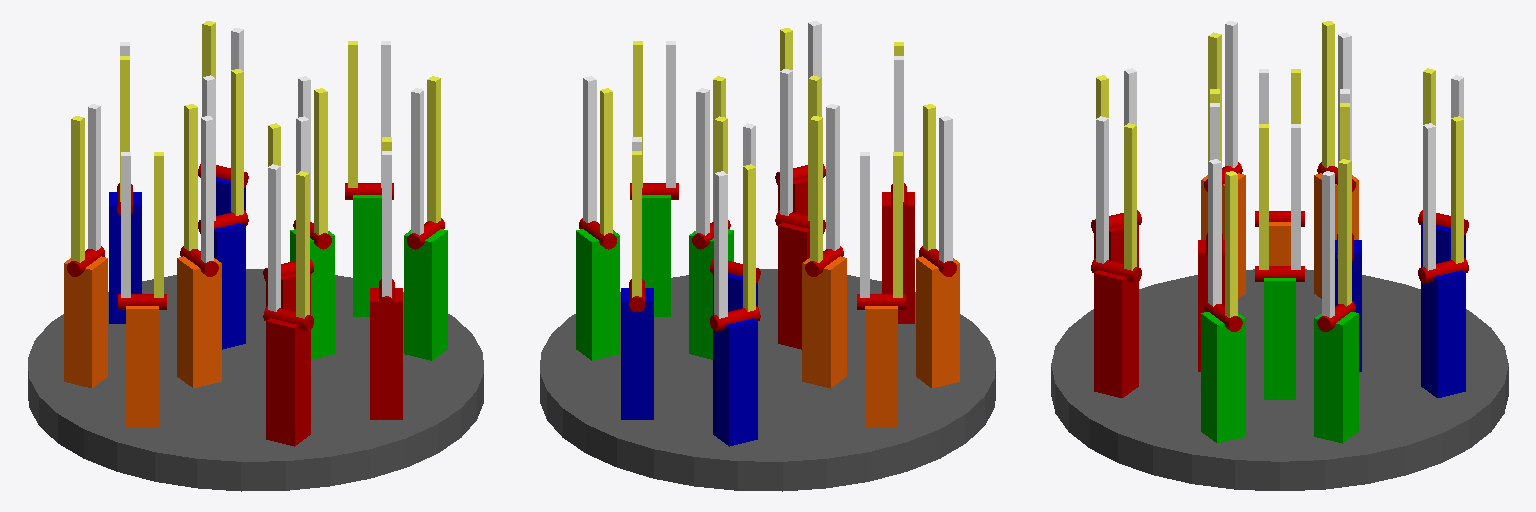
--- Render facts (derived) ---
The picture shows the robot from 3 angles, left to right: view 1: azimuth 30°, elevation 25°; view 2: azimuth 150°, elevation 25°; view 3: azimuth 270°, elevation 25°; orthographic projection.
Robot: 12act_float — 50 links, 49 joints (36 revolute, 12 prismatic, 1 fixed); root link world; default pose: all joints at 0.
Links seen in each view (by area): view 1: base_link, motor_link_5, motor_link_6, motor_link_2, motor_link_8, motor_link_7, motor_link_4, motor_link_9, motor_link_1, motor_link_0, motor_link_10, parallel_5_leg1 (+25 smaller); view 2: base_link, motor_link_10, motor_link_6, motor_link_1, motor_link_7, motor_link_8, motor_link_11, motor_link_3, motor_link_2, motor_link_0, motor_link_5, parallel_10_leg2 (+25 smaller); view 3: base_link, motor_link_4, motor_link_11, motor_link_1, motor_link_2, motor_link_0, parallel_1_leg1, parallel_2_leg2, parallel_4_leg1, parallel_11_leg2, parallel_4_leg2, parallel_11_leg1 (+26 smaller).
Boxes of the visible links, left/top/right/bottom form: base_link: left=28, top=269, right=483, bottom=491; motor_link_5: left=266, top=318, right=310, bottom=446; motor_link_6: left=177, top=256, right=221, bottom=388; motor_link_2: left=404, top=229, right=447, bottom=360; motor_link_8: left=64, top=256, right=107, bottom=387; motor_link_7: left=126, top=306, right=158, bottom=427; motor_link_4: left=370, top=288, right=402, bottom=419; motor_link_9: left=214, top=222, right=245, bottom=349; motor_link_1: left=353, top=195, right=381, bottom=316; motor_link_0: left=290, top=229, right=334, bottom=359; motor_link_10: left=109, top=192, right=141, bottom=323; parallel_5_leg1: left=296, top=171, right=309, bottom=318; base_link: left=540, top=269, right=995, bottom=491; motor_link_10: left=713, top=318, right=757, bottom=446; motor_link_6: left=802, top=256, right=846, bottom=388; motor_link_1: left=576, top=229, right=619, bottom=360; motor_link_7: left=916, top=256, right=959, bottom=387; motor_link_8: left=865, top=306, right=897, bottom=427; motor_link_11: left=621, top=288, right=653, bottom=419; motor_link_3: left=778, top=222, right=809, bottom=349; motor_link_2: left=642, top=195, right=670, bottom=316; motor_link_0: left=689, top=229, right=733, bottom=359; motor_link_5: left=882, top=192, right=914, bottom=323; parallel_10_leg2: left=714, top=171, right=727, bottom=318; base_link: left=1051, top=269, right=1508, bottom=490; motor_link_4: left=1094, top=270, right=1138, bottom=397; motor_link_11: left=1421, top=270, right=1465, bottom=397; motor_link_1: left=1314, top=312, right=1358, bottom=443; motor_link_2: left=1201, top=312, right=1245, bottom=443; motor_link_0: left=1264, top=278, right=1295, bottom=399; parallel_1_leg1: left=1338, top=159, right=1351, bottom=306; parallel_2_leg2: left=1208, top=159, right=1221, bottom=306; parallel_4_leg1: left=1124, top=123, right=1136, bottom=270; parallel_11_leg2: left=1423, top=123, right=1435, bottom=270; parallel_4_leg2: left=1096, top=116, right=1108, bottom=263; parallel_11_leg1: left=1451, top=116, right=1463, bottom=263.
Bounding box of the posed robot: 0.14 × 0.14 × 0.1 m (x, y, z).
Geometry: primitives only (box / cylinder / sphere), no mesh files.

URDF robot description (12act_float):
<?xml version="1.0"?>
<robot  name="12act_float" >
 <material  name="Black" >
  <color  rgba="0 0 0 1" />
 </material>
 <material  name="Blue" >
  <color  rgba="0.0 0.0 0.8 1.0" />
 </material>
 <material  name="Green" >
  <color  rgba="0.0 0.8 0.0 1.0" />
 </material>
 <material  name="Grey" >
  <color  rgba="0.4 0.4 0.4 1.0" />
 </material>
 <material  name="Orange" >
  <color  rgba="1.0 0.4235294117647059 0.0392156862745098 1.0" />
 </material>
 <material  name="Brown" >
  <color  rgba="0.8705882352941177 0.8117647058823529 0.7647058823529411 1.0" />
 </material>
 <material  name="Red" >
  <color  rgba="0.8 0.0 0.0 1.0" />
 </material>
 <material  name="BananaYellow" >
  <color  rgba="0.9803921568627451 0.996078431372549 0.29411764705882354 1.0" />
 </material>
 <material  name="BrightBlue" >
  <color  rgba="0.00392156862745098 0.396078431372549 0.9882352941176471 1.0" />
 </material>
 <material  name="White" >
  <color  rgba="1.0 1.0 1.0 1.0" />
 </material>
 <link  name="world" />
 <joint  type="fixed"  name="base_joint" >
  <parent  link="world" />
  <child  link="base_link" />
  <origin  xyz="0 0 0"  rpy="0 0 0" />
 </joint>
 <link  name="base_link" >
  <inertial >
   <mass  value="0.25" />
   <inertia  iyy="0.001"  izz="0.001"  ixx="0.001"  ixz="0.0"  ixy="0.0"  iyz="0.0" />
  </inertial>
  <visual >
   <origin  xyz="0 0 0.005"  rpy="0 0 0" />
   <geometry >
    <cylinder  length="0.01"  radius="0.07" />
   </geometry>
   <material  name="Grey" />
  </visual>
  <collision >
   <origin  xyz="0 0 0.005"  rpy="0 0 0" />
   <geometry >
    <cylinder  length="0.01"  radius="0.07" />
   </geometry>
   <material  name="Grey" />
  </collision>
 </link>
 <joint  type="prismatic"  name="motor_joint_0" >
  <axis  xyz="0 0 1" />
  <limit  upper="0.02"  velocity="1"  lower="0"  effort="100" />
  <parent  link="base_link" />
  <child  link="motor_link_0" />
  <origin  xyz="0.02 0 0.01"  rpy="0 0 1.5707963267948966" />
 </joint>
 <link  name="motor_link_0" >
  <inertial >
   <mass  value="0.021" />
   <inertia  iyy="0.001"  izz="0.001"  ixx="0.001"  ixz="0.0"  ixy="0.0"  iyz="0.0" />
  </inertial>
  <visual >
   <origin  xyz="0 0 0.02"  rpy="0 0 0" />
   <geometry >
    <box  size="0.01 0.01 0.04" />
   </geometry>
   <material  name="Green" />
  </visual>
  <collision >
   <origin  xyz="0 0 0.02"  rpy="0 0 0" />
   <geometry >
    <box  size="0.01 0.01 0.04" />
   </geometry>
   <material  name="Green" />
  </collision>
 </link>
 <joint  type="prismatic"  name="motor_joint_1" >
  <axis  xyz="0 0 1" />
  <limit  upper="0.02"  velocity="1"  lower="0"  effort="100" />
  <parent  link="base_link" />
  <child  link="motor_link_1" />
  <origin  xyz="0.05 0.017320508075688773 0.01"  rpy="0 0 -0.5235987755982988" />
 </joint>
 <link  name="motor_link_1" >
  <inertial >
   <mass  value="0.021" />
   <inertia  iyy="0.001"  izz="0.001"  ixx="0.001"  ixz="0.0"  ixy="0.0"  iyz="0.0" />
  </inertial>
  <visual >
   <origin  xyz="0 0 0.02"  rpy="0 0 0" />
   <geometry >
    <box  size="0.01 0.01 0.04" />
   </geometry>
   <material  name="Green" />
  </visual>
  <collision >
   <origin  xyz="0 0 0.02"  rpy="0 0 0" />
   <geometry >
    <box  size="0.01 0.01 0.04" />
   </geometry>
   <material  name="Green" />
  </collision>
 </link>
 <joint  type="prismatic"  name="motor_joint_2" >
  <axis  xyz="0 0 1" />
  <limit  upper="0.02"  velocity="1"  lower="0"  effort="100" />
  <parent  link="base_link" />
  <child  link="motor_link_2" />
  <origin  xyz="0.05 -0.017320508075688773 0.01"  rpy="0 0 -2.6179938779914944" />
 </joint>
 <link  name="motor_link_2" >
  <inertial >
   <mass  value="0.021" />
   <inertia  iyy="0.001"  izz="0.001"  ixx="0.001"  ixz="0.0"  ixy="0.0"  iyz="0.0" />
  </inertial>
  <visual >
   <origin  xyz="0 0 0.02"  rpy="0 0 0" />
   <geometry >
    <box  size="0.01 0.01 0.04" />
   </geometry>
   <material  name="Green" />
  </visual>
  <collision >
   <origin  xyz="0 0 0.02"  rpy="0 0 0" />
   <geometry >
    <box  size="0.01 0.01 0.04" />
   </geometry>
   <material  name="Green" />
  </collision>
 </link>
 <joint  type="prismatic"  name="motor_joint_3" >
  <axis  xyz="0 0 1" />
  <limit  upper="0.02"  velocity="1"  lower="0"  effort="100" />
  <parent  link="base_link" />
  <child  link="motor_link_3" />
  <origin  xyz="0 -0.02 0.01"  rpy="0 0 0" />
 </joint>
 <link  name="motor_link_3" >
  <inertial >
   <mass  value="0.021" />
   <inertia  iyy="0.001"  izz="0.001"  ixx="0.001"  ixz="0.0"  ixy="0.0"  iyz="0.0" />
  </inertial>
  <visual >
   <origin  xyz="0 0 0.02"  rpy="0 0 0" />
   <geometry >
    <box  size="0.01 0.01 0.04" />
   </geometry>
   <material  name="Red" />
  </visual>
  <collision >
   <origin  xyz="0 0 0.02"  rpy="0 0 0" />
   <geometry >
    <box  size="0.01 0.01 0.04" />
   </geometry>
   <material  name="Red" />
  </collision>
 </link>
 <joint  type="prismatic"  name="motor_joint_4" >
  <axis  xyz="0 0 1" />
  <limit  upper="0.02"  velocity="1"  lower="0"  effort="100" />
  <parent  link="base_link" />
  <child  link="motor_link_4" />
  <origin  xyz="0.017320508075688773 -0.05 0.01"  rpy="0 0 -2.0943951023931953" />
 </joint>
 <link  name="motor_link_4" >
  <inertial >
   <mass  value="0.021" />
   <inertia  iyy="0.001"  izz="0.001"  ixx="0.001"  ixz="0.0"  ixy="0.0"  iyz="0.0" />
  </inertial>
  <visual >
   <origin  xyz="0 0 0.02"  rpy="0 0 0" />
   <geometry >
    <box  size="0.01 0.01 0.04" />
   </geometry>
   <material  name="Red" />
  </visual>
  <collision >
   <origin  xyz="0 0 0.02"  rpy="0 0 0" />
   <geometry >
    <box  size="0.01 0.01 0.04" />
   </geometry>
   <material  name="Red" />
  </collision>
 </link>
 <joint  type="prismatic"  name="motor_joint_5" >
  <axis  xyz="0 0 1" />
  <limit  upper="0.02"  velocity="1"  lower="0"  effort="100" />
  <parent  link="base_link" />
  <child  link="motor_link_5" />
  <origin  xyz="-0.017320508075688773 -0.05 0.01"  rpy="0 0 2.0943951023931953" />
 </joint>
 <link  name="motor_link_5" >
  <inertial >
   <mass  value="0.021" />
   <inertia  iyy="0.001"  izz="0.001"  ixx="0.001"  ixz="0.0"  ixy="0.0"  iyz="0.0" />
  </inertial>
  <visual >
   <origin  xyz="0 0 0.02"  rpy="0 0 0" />
   <geometry >
    <box  size="0.01 0.01 0.04" />
   </geometry>
   <material  name="Red" />
  </visual>
  <collision >
   <origin  xyz="0 0 0.02"  rpy="0 0 0" />
   <geometry >
    <box  size="0.01 0.01 0.04" />
   </geometry>
   <material  name="Red" />
  </collision>
 </link>
 <joint  type="prismatic"  name="motor_joint_6" >
  <axis  xyz="0 0 1" />
  <limit  upper="0.02"  velocity="1"  lower="0"  effort="100" />
  <parent  link="base_link" />
  <child  link="motor_link_6" />
  <origin  xyz="-0.02 0 0.01"  rpy="0 0 -1.5707963267948966" />
 </joint>
 <link  name="motor_link_6" >
  <inertial >
   <mass  value="0.021" />
   <inertia  iyy="0.001"  izz="0.001"  ixx="0.001"  ixz="0.0"  ixy="0.0"  iyz="0.0" />
  </inertial>
  <visual >
   <origin  xyz="0 0 0.02"  rpy="0 0 0" />
   <geometry >
    <box  size="0.01 0.01 0.04" />
   </geometry>
   <material  name="Orange" />
  </visual>
  <collision >
   <origin  xyz="0 0 0.02"  rpy="0 0 0" />
   <geometry >
    <box  size="0.01 0.01 0.04" />
   </geometry>
   <material  name="Orange" />
  </collision>
 </link>
 <joint  type="prismatic"  name="motor_joint_7" >
  <axis  xyz="0 0 1" />
  <limit  upper="0.02"  velocity="1"  lower="0"  effort="100" />
  <parent  link="base_link" />
  <child  link="motor_link_7" />
  <origin  xyz="-0.05 -0.017320508075688773 0.01"  rpy="0 0 2.6179938779914944" />
 </joint>
 <link  name="motor_link_7" >
  <inertial >
   <mass  value="0.021" />
   <inertia  iyy="0.001"  izz="0.001"  ixx="0.001"  ixz="0.0"  ixy="0.0"  iyz="0.0" />
  </inertial>
  <visual >
   <origin  xyz="0 0 0.02"  rpy="0 0 0" />
   <geometry >
    <box  size="0.01 0.01 0.04" />
   </geometry>
   <material  name="Orange" />
  </visual>
  <collision >
   <origin  xyz="0 0 0.02"  rpy="0 0 0" />
   <geometry >
    <box  size="0.01 0.01 0.04" />
   </geometry>
   <material  name="Orange" />
  </collision>
 </link>
 <joint  type="prismatic"  name="motor_joint_8" >
  <axis  xyz="0 0 1" />
  <limit  upper="0.02"  velocity="1"  lower="0"  effort="100" />
  <parent  link="base_link" />
  <child  link="motor_link_8" />
  <origin  xyz="-0.05 0.017320508075688773 0.01"  rpy="0 0 0.5235987755982988" />
 </joint>
 <link  name="motor_link_8" >
  <inertial >
   <mass  value="0.021" />
   <inertia  iyy="0.001"  izz="0.001"  ixx="0.001"  ixz="0.0"  ixy="0.0"  iyz="0.0" />
  </inertial>
  <visual >
   <origin  xyz="0 0 0.02"  rpy="0 0 0" />
   <geometry >
    <box  size="0.01 0.01 0.04" />
   </geometry>
   <material  name="Orange" />
  </visual>
  <collision >
   <origin  xyz="0 0 0.02"  rpy="0 0 0" />
   <geometry >
    <box  size="0.01 0.01 0.04" />
   </geometry>
   <material  name="Orange" />
  </collision>
 </link>
 <joint  type="prismatic"  name="motor_joint_9" >
  <axis  xyz="0 0 1" />
  <limit  upper="0.02"  velocity="1"  lower="0"  effort="100" />
  <parent  link="base_link" />
  <child  link="motor_link_9" />
  <origin  xyz="0 0.02 0.01"  rpy="0 0 3.141592653589793" />
 </joint>
 <link  name="motor_link_9" >
  <inertial >
   <mass  value="0.021" />
   <inertia  iyy="0.001"  izz="0.001"  ixx="0.001"  ixz="0.0"  ixy="0.0"  iyz="0.0" />
  </inertial>
  <visual >
   <origin  xyz="0 0 0.02"  rpy="0 0 0" />
   <geometry >
    <box  size="0.01 0.01 0.04" />
   </geometry>
   <material  name="Blue" />
  </visual>
  <collision >
   <origin  xyz="0 0 0.02"  rpy="0 0 0" />
   <geometry >
    <box  size="0.01 0.01 0.04" />
   </geometry>
   <material  name="Blue" />
  </collision>
 </link>
 <joint  type="prismatic"  name="motor_joint_10" >
  <axis  xyz="0 0 1" />
  <limit  upper="0.02"  velocity="1"  lower="0"  effort="100" />
  <parent  link="base_link" />
  <child  link="motor_link_10" />
  <origin  xyz="-0.017320508075688773 0.05 0.01"  rpy="0 0 1.0471975511965976" />
 </joint>
 <link  name="motor_link_10" >
  <inertial >
   <mass  value="0.021" />
   <inertia  iyy="0.001"  izz="0.001"  ixx="0.001"  ixz="0.0"  ixy="0.0"  iyz="0.0" />
  </inertial>
  <visual >
   <origin  xyz="0 0 0.02"  rpy="0 0 0" />
   <geometry >
    <box  size="0.01 0.01 0.04" />
   </geometry>
   <material  name="Blue" />
  </visual>
  <collision >
   <origin  xyz="0 0 0.02"  rpy="0 0 0" />
   <geometry >
    <box  size="0.01 0.01 0.04" />
   </geometry>
   <material  name="Blue" />
  </collision>
 </link>
 <joint  type="prismatic"  name="motor_joint_11" >
  <axis  xyz="0 0 1" />
  <limit  upper="0.02"  velocity="1"  lower="0"  effort="100" />
  <parent  link="base_link" />
  <child  link="motor_link_11" />
  <origin  xyz="0.017320508075688773 0.05 0.01"  rpy="0 0 -1.0471975511965976" />
 </joint>
 <link  name="motor_link_11" >
  <inertial >
   <mass  value="0.021" />
   <inertia  iyy="0.001"  izz="0.001"  ixx="0.001"  ixz="0.0"  ixy="0.0"  iyz="0.0" />
  </inertial>
  <visual >
   <origin  xyz="0 0 0.02"  rpy="0 0 0" />
   <geometry >
    <box  size="0.01 0.01 0.04" />
   </geometry>
   <material  name="Blue" />
  </visual>
  <collision >
   <origin  xyz="0 0 0.02"  rpy="0 0 0" />
   <geometry >
    <box  size="0.01 0.01 0.04" />
   </geometry>
   <material  name="Blue" />
  </collision>
 </link>
 <joint  type="revolute"  name="parallel_0_kneejoint" >
  <axis  xyz="1 0 0" />
  <limit  upper="3.141592653589793"  velocity="1"  lower="-3.141592653589793"  effort="100" />
  <parent  link="motor_link_0" />
  <child  link="parallel_0_knee" />
  <origin  xyz="0 0 0.04"  rpy="0 0 0" />
 </joint>
 <link  name="parallel_0_knee" >
  <inertial >
   <mass  value="0.002" />
   <inertia  iyy="0.001"  izz="0.001"  ixx="0.001"  ixz="0.0"  ixy="0.0"  iyz="0.0" />
  </inertial>
  <visual >
   <origin  xyz="0 0 0"  rpy="0 1.5707963267948966 0" />
   <geometry >
    <cylinder  length="0.015"  radius="0.0025" />
   </geometry>
   <material  name="Red" />
  </visual>
  <collision >
   <origin  xyz="0 0 0"  rpy="0 1.5707963267948966 0" />
   <geometry >
    <cylinder  length="0.015"  radius="0.0025" />
   </geometry>
   <material  name="Red" />
  </collision>
 </link>
 <joint  type="revolute"  name="parallel_0_legjoint1" >
  <axis  xyz="0 1 0" />
  <limit  upper="1.5707963267948966"  velocity="1"  lower="-1.5707963267948966"  effort="100" />
  <parent  link="parallel_0_knee" />
  <child  link="parallel_0_leg1" />
  <origin  xyz="-0.005 0 0"  rpy="0 0 0" />
 </joint>
 <joint  type="revolute"  name="parallel_0_legjoint2" >
  <axis  xyz="0 1 0" />
  <limit  upper="1.5707963267948966"  velocity="1"  lower="-1.5707963267948966"  effort="100" />
  <parent  link="parallel_0_knee" />
  <child  link="parallel_0_leg2" />
  <origin  xyz="0.005 0 0"  rpy="0 0 0" />
 </joint>
 <link  name="parallel_0_leg1" >
  <inertial >
   <mass  value="0.005" />
   <inertia  iyy="0.001"  izz="0.001"  ixx="0.001"  ixz="0.0"  ixy="0.0"  iyz="0.0" />
  </inertial>
  <visual >
   <origin  xyz="0 0 0.025"  rpy="0 0 0" />
   <geometry >
    <box  size="0.003 0.003 0.05" />
   </geometry>
   <material  name="BananaYellow" />
  </visual>
  <collision >
   <origin  xyz="0 0 0.025"  rpy="0 0 0" />
   <geometry >
    <box  size="0.003 0.003 0.05" />
   </geometry>
   <material  name="BananaYellow" />
  </collision>
 </link>
 <link  name="parallel_0_leg2" >
  <inertial >
   <mass  value="0.005" />
   <inertia  iyy="0.001"  izz="0.001"  ixx="0.001"  ixz="0.0"  ixy="0.0"  iyz="0.0" />
  </inertial>
  <visual >
   <origin  xyz="0 0 0.025"  rpy="0 0 0" />
   <geometry >
    <box  size="0.003 0.003 0.05" />
   </geometry>
   <material  name="White" />
  </visual>
  <collision >
   <origin  xyz="0 0 0.025"  rpy="0 0 0" />
   <geometry >
    <box  size="0.003 0.003 0.05" />
   </geometry>
   <material  name="White" />
  </collision>
 </link>
 <joint  type="revolute"  name="parallel_1_kneejoint" >
  <axis  xyz="1 0 0" />
  <limit  upper="3.141592653589793"  velocity="1"  lower="-3.141592653589793"  effort="100" />
  <parent  link="motor_link_1" />
  <child  link="parallel_1_knee" />
  <origin  xyz="0 0 0.04"  rpy="0 0 0" />
 </joint>
 <link  name="parallel_1_knee" >
  <inertial >
   <mass  value="0.002" />
   <inertia  iyy="0.001"  izz="0.001"  ixx="0.001"  ixz="0.0"  ixy="0.0"  iyz="0.0" />
  </inertial>
  <visual >
   <origin  xyz="0 0 0"  rpy="0 1.5707963267948966 0" />
   <geometry >
    <cylinder  length="0.015"  radius="0.0025" />
   </geometry>
   <material  name="Red" />
  </visual>
  <collision >
   <origin  xyz="0 0 0"  rpy="0 1.5707963267948966 0" />
   <geometry >
    <cylinder  length="0.015"  radius="0.0025" />
   </geometry>
   <material  name="Red" />
  </collision>
 </link>
 <joint  type="revolute"  name="parallel_1_legjoint1" >
  <axis  xyz="0 1 0" />
  <limit  upper="1.5707963267948966"  velocity="1"  lower="-1.5707963267948966"  effort="100" />
  <parent  link="parallel_1_knee" />
  <child  link="parallel_1_leg1" />
  <origin  xyz="-0.005 0 0"  rpy="0 0 0" />
 </joint>
 <joint  type="revolute"  name="parallel_1_legjoint2" >
  <axis  xyz="0 1 0" />
  <limit  upper="1.5707963267948966"  velocity="1"  lower="-1.5707963267948966"  effort="100" />
  <parent  link="parallel_1_knee" />
  <child  link="parallel_1_leg2" />
  <origin  xyz="0.005 0 0"  rpy="0 0 0" />
 </joint>
 <link  name="parallel_1_leg1" >
  <inertial >
   <mass  value="0.005" />
   <inertia  iyy="0.001"  izz="0.001"  ixx="0.001"  ixz="0.0"  ixy="0.0"  iyz="0.0" />
  </inertial>
  <visual >
   <origin  xyz="0 0 0.025"  rpy="0 0 0" />
   <geometry >
    <box  size="0.003 0.003 0.05" />
   </geometry>
   <material  name="BananaYellow" />
  </visual>
  <collision >
   <origin  xyz="0 0 0.025"  rpy="0 0 0" />
   <geometry >
    <box  size="0.003 0.003 0.05" />
   </geometry>
   <material  name="BananaYellow" />
  </collision>
 </link>
 <link  name="parallel_1_leg2" >
  <inertial >
   <mass  value="0.005" />
   <inertia  iyy="0.001"  izz="0.001"  ixx="0.001"  ixz="0.0"  ixy="0.0"  iyz="0.0" />
  </inertial>
  <visual >
   <origin  xyz="0 0 0.025"  rpy="0 0 0" />
   <geometry >
    <box  size="0.003 0.003 0.05" />
   </geometry>
   <material  name="White" />
  </visual>
  <collision >
   <origin  xyz="0 0 0.025"  rpy="0 0 0" />
   <geometry >
    <box  size="0.003 0.003 0.05" />
   </geometry>
   <material  name="White" />
  </collision>
 </link>
 <joint  type="revolute"  name="parallel_2_kneejoint" >
  <axis  xyz="1 0 0" />
  <limit  upper="3.141592653589793"  velocity="1"  lower="-3.141592653589793"  effort="100" />
  <parent  link="motor_link_2" />
  <child  link="parallel_2_knee" />
  <origin  xyz="0 0 0.04"  rpy="0 0 0" />
 </joint>
 <link  name="parallel_2_knee" >
  <inertial >
   <mass  value="0.002" />
   <inertia  iyy="0.001"  izz="0.001"  ixx="0.001"  ixz="0.0"  ixy="0.0"  iyz="0.0" />
  </inertial>
  <visual >
   <origin  xyz="0 0 0"  rpy="0 1.5707963267948966 0" />
   <geometry >
    <cylinder  length="0.015"  radius="0.0025" />
   </geometry>
   <material  name="Red" />
  </visual>
  <collision >
   <origin  xyz="0 0 0"  rpy="0 1.5707963267948966 0" />
   <geometry >
    <cylinder  length="0.015"  radius="0.0025" />
   </geometry>
   <material  name="Red" />
  </collision>
 </link>
 <joint  type="revolute"  name="parallel_2_legjoint1" >
  <axis  xyz="0 1 0" />
  <limit  upper="1.5707963267948966"  velocity="1"  lower="-1.5707963267948966"  effort="100" />
  <parent  link="parallel_2_knee" />
  <child  link="parallel_2_leg1" />
  <origin  xyz="-0.005 0 0"  rpy="0 0 0" />
 </joint>
 <joint  type="revolute"  name="parallel_2_legjoint2" >
  <axis  xyz="0 1 0" />
  <limit  upper="1.5707963267948966"  velocity="1"  lower="-1.5707963267948966"  effort="100" />
  <parent  link="parallel_2_knee" />
  <child  link="parallel_2_leg2" />
  <origin  xyz="0.005 0 0"  rpy="0 0 0" />
 </joint>
 <link  name="parallel_2_leg1" >
  <inertial >
   <mass  value="0.005" />
   <inertia  iyy="0.001"  izz="0.001"  ixx="0.001"  ixz="0.0"  ixy="0.0"  iyz="0.0" />
  </inertial>
  <visual >
   <origin  xyz="0 0 0.025"  rpy="0 0 0" />
   <geometry >
    <box  size="0.003 0.003 0.05" />
   </geometry>
   <material  name="BananaYellow" />
  </visual>
  <collision >
   <origin  xyz="0 0 0.025"  rpy="0 0 0" />
   <geometry >
    <box  size="0.003 0.003 0.05" />
   </geometry>
   <material  name="BananaYellow" />
  </collision>
 </link>
 <link  name="parallel_2_leg2" >
  <inertial >
   <mass  value="0.005" />
   <inertia  iyy="0.001"  izz="0.001"  ixx="0.001"  ixz="0.0"  ixy="0.0"  iyz="0.0" />
  </inertial>
  <visual >
   <origin  xyz="0 0 0.025"  rpy="0 0 0" />
   <geometry >
    <box  size="0.003 0.003 0.05" />
   </geometry>
   <material  name="White" />
  </visual>
  <collision >
   <origin  xyz="0 0 0.025"  rpy="0 0 0" />
   <geometry >
    <box  size="0.003 0.003 0.05" />
   </geometry>
   <material  name="White" />
  </collision>
 </link>
 <joint  type="revolute"  name="parallel_3_kneejoint" >
  <axis  xyz="1 0 0" />
  <limit  upper="3.141592653589793"  velocity="1"  lower="-3.141592653589793"  effort="100" />
  <parent  link="motor_link_3" />
  <child  link="parallel_3_knee" />
  <origin  xyz="0 0 0.04"  rpy="0 0 0" />
 </joint>
 <link  name="parallel_3_knee" >
  <inertial >
   <mass  value="0.002" />
   <inertia  iyy="0.001"  izz="0.001"  ixx="0.001"  ixz="0.0"  ixy="0.0"  iyz="0.0" />
  </inertial>
  <visual >
   <origin  xyz="0 0 0"  rpy="0 1.5707963267948966 0" />
   <geometry >
    <cylinder  length="0.015"  radius="0.0025" />
   </geometry>
   <material  name="Red" />
  </visual>
  <collision >
   <origin  xyz="0 0 0"  rpy="0 1.5707963267948966 0" />
   <geometry >
    <cylinder  length="0.015"  radius="0.0025" />
   </geometry>
   <material  name="Red" />
  </collision>
 </link>
 <joint  type="revolute"  name="parallel_3_legjoint1" >
  <axis  xyz="0 1 0" />
  <limit  upper="1.5707963267948966"  velocity="1"  lower="-1.5707963267948966"  effort="100" />
  <parent  link="parallel_3_knee" />
  <child  link="parallel_3_leg1" />
  <origin  xyz="-0.005 0 0"  rpy="0 0 0" />
 </joint>
 <joint  type="revolute"  name="parallel_3_legjoint2" >
  <axis  xyz="0 1 0" />
  <limit  upper="1.5707963267948966"  velocity="1"  lower="-1.5707963267948966"  effort="100" />
  <parent  link="parallel_3_knee" />
  <child  link="parallel_3_leg2" />
  <origin  xyz="0.005 0 0"  rpy="0 0 0" />
 </joint>
 <link  name="parallel_3_leg1" >
  <inertial >
   <mass  value="0.005" />
   <inertia  iyy="0.001"  izz="0.001"  ixx="0.001"  ixz="0.0"  ixy="0.0"  iyz="0.0" />
  </inertial>
  <visual >
   <origin  xyz="0 0 0.025"  rpy="0 0 0" />
   <geometry >
    <box  size="0.003 0.003 0.05" />
   </geometry>
   <material  name="BananaYellow" />
  </visual>
  <collision >
   <origin  xyz="0 0 0.025"  rpy="0 0 0" />
   <geometry >
    <box  size="0.003 0.003 0.05" />
   </geometry>
   <material  name="BananaYellow" />
  </collision>
 </link>
 <link  name="parallel_3_leg2" >
  <inertial >
   <mass  value="0.005" />
   <inertia  iyy="0.001"  izz="0.001"  ixx="0.001"  ixz="0.0"  ixy="0.0"  iyz="0.0" />
  </inertial>
  <visual >
   <origin  xyz="0 0 0.025"  rpy="0 0 0" />
   <geometry >
    <box  size="0.003 0.003 0.05" />
   </geometry>
   <material  name="White" />
  </visual>
  <collision >
   <origin  xyz="0 0 0.025"  rpy="0 0 0" />
   <geometry >
    <box  size="0.003 0.003 0.05" />
   </geometry>
   <material  name="White" />
  </collision>
 </link>
 <joint  type="revolute"  name="parallel_4_kneejoint" >
  <axis  xyz="1 0 0" />
  <limit  upper="3.141592653589793"  velocity="1"  lower="-3.141592653589793"  effort="100" />
  <parent  link="motor_link_4" />
  <child  link="parallel_4_knee" />
  <origin  xyz="0 0 0.04"  rpy="0 0 0" />
 </joint>
 <link  name="parallel_4_knee" >
  <inertial >
   <mass  value="0.002" />
   <inertia  iyy="0.001"  izz="0.001"  ixx="0.001"  ixz="0.0"  ixy="0.0"  iyz="0.0" />
  </inertial>
  <visual >
   <origin  xyz="0 0 0"  rpy="0 1.5707963267948966 0" />
   <geometry >
    <cylinder  length="0.015"  radius="0.0025" />
   </geometry>
   <material  name="Red" />
  </visual>
  <collision >
   <origin  xyz="0 0 0"  rpy="0 1.5707963267948966 0" />
   <geometry >
    <cylinder  length="0.015"  radius="0.0025" />
   </geometry>
   <material  name="Red" />
  </collision>
 </link>
 <joint  type="revolute"  name="parallel_4_legjoint1" >
  <axis  xyz="0 1 0" />
  <limit  upper="1.5707963267948966"  velocity="1"  lower="-1.5707963267948966"  effort="100" />
  <parent  link="parallel_4_knee" />
  <child  link="parallel_4_leg1" />
  <origin  xyz="-0.005 0 0"  rpy="0 0 0" />
 </joint>
 <joint  type="revolute"  name="parallel_4_legjoint2" >
  <axis  xyz="0 1 0" />
  <limit  upper="1.5707963267948966"  velocity="1"  lower="-1.5707963267948966"  effort="100" />
  <parent  link="parallel_4_knee" />
  <child  link="parallel_4_leg2" />
  <origin  xyz="0.005 0 0"  rpy="0 0 0" />
 </joint>
 <link  name="parallel_4_leg1" >
  <inertial >
   <mass  value="0.005" />
   <inertia  iyy="0.001"  izz="0.001"  ixx="0.001"  ixz="0.0"  ixy="0.0"  iyz="0.0" />
  </inertial>
  <visual >
   <origin  xyz="0 0 0.025"  rpy="0 0 0" />
   <geometry >
    <box  size="0.003 0.003 0.05" />
   </geometry>
   <material  name="BananaYellow" />
  </visual>
  <collision >
   <origin  xyz="0 0 0.025"  rpy="0 0 0" />
   <geometry >
    <box  size="0.003 0.003 0.05" />
   </geometry>
   <material  name="BananaYellow" />
  </collision>
 </link>
 <link  name="parallel_4_leg2" >
  <inertial >
   <mass  value="0.005" />
   <inertia  iyy="0.001"  izz="0.001"  ixx="0.001"  ixz="0.0"  ixy="0.0"  iyz="0.0" />
  </inertial>
  <visual >
   <origin  xyz="0 0 0.025"  rpy="0 0 0" />
   <geometry >
    <box  size="0.003 0.003 0.05" />
   </geometry>
   <material  name="White" />
  </visual>
  <collision >
   <origin  xyz="0 0 0.025"  rpy="0 0 0" />
   <geometry >
    <box  size="0.003 0.003 0.05" />
   </geometry>
   <material  name="White" />
  </collision>
 </link>
 <joint  type="revolute"  name="parallel_5_kneejoint" >
  <axis  xyz="1 0 0" />
  <limit  upper="3.141592653589793"  velocity="1"  lower="-3.141592653589793"  effort="100" />
  <parent  link="motor_link_5" />
  <child  link="parallel_5_knee" />
  <origin  xyz="0 0 0.04"  rpy="0 0 0" />
 </joint>
 <link  name="parallel_5_knee" >
  <inertial >
   <mass  value="0.002" />
   <inertia  iyy="0.001"  izz="0.001"  ixx="0.001"  ixz="0.0"  ixy="0.0"  iyz="0.0" />
  </inertial>
  <visual >
   <origin  xyz="0 0 0"  rpy="0 1.5707963267948966 0" />
   <geometry >
    <cylinder  length="0.015"  radius="0.0025" />
   </geometry>
   <material  name="Red" />
  </visual>
  <collision >
   <origin  xyz="0 0 0"  rpy="0 1.5707963267948966 0" />
   <geometry >
    <cylinder  length="0.015"  radius="0.0025" />
   </geometry>
   <material  name="Red" />
  </collision>
 </link>
 <joint  type="revolute"  name="parallel_5_legjoint1" >
  <axis  xyz="0 1 0" />
  <limit  upper="1.5707963267948966"  velocity="1"  lower="-1.5707963267948966"  effort="100" />
  <parent  link="parallel_5_knee" />
  <child  link="parallel_5_leg1" />
  <origin  xyz="-0.005 0 0"  rpy="0 0 0" />
 </joint>
 <joint  type="revolute"  name="parallel_5_legjoint2" >
  <axis  xyz="0 1 0" />
  <limit  upper="1.5707963267948966"  velocity="1"  lower="-1.5707963267948966"  effort="100" />
  <parent  link="parallel_5_knee" />
  <child  link="parallel_5_leg2" />
  <origin  xyz="0.005 0 0"  rpy="0 0 0" />
 </joint>
 <link  name="parallel_5_leg1" >
  <inertial >
   <mass  value="0.005" />
   <inertia  iyy="0.001"  izz="0.001"  ixx="0.001"  ixz="0.0"  ixy="0.0"  iyz="0.0" />
  </inertial>
  <visual >
   <origin  xyz="0 0 0.025"  rpy="0 0 0" />
   <geometry >
    <box  size="0.003 0.003 0.05" />
   </geometry>
   <material  name="BananaYellow" />
  </visual>
  <collision >
   <origin  xyz="0 0 0.025"  rpy="0 0 0" />
   <geometry >
    <box  size="0.003 0.003 0.05" />
   </geometry>
   <material  name="BananaYellow" />
  </collision>
 </link>
 <link  name="parallel_5_leg2" >
  <inertial >
   <mass  value="0.005" />
   <inertia  iyy="0.001"  izz="0.001"  ixx="0.001"  ixz="0.0"  ixy="0.0"  iyz="0.0" />
  </inertial>
  <visual >
   <origin  xyz="0 0 0.025"  rpy="0 0 0" />
   <geometry >
    <box  size="0.003 0.003 0.05" />
   </geometry>
   <material  name="White" />
  </visual>
  <collision >
   <origin  xyz="0 0 0.025"  rpy="0 0 0" />
   <geometry >
    <box  size="0.003 0.003 0.05" />
   </geometry>
   <material  name="White" />
  </collision>
 </link>
 <joint  type="revolute"  name="parallel_6_kneejoint" >
  <axis  xyz="1 0 0" />
  <limit  upper="3.141592653589793"  velocity="1"  lower="-3.141592653589793"  effort="100" />
  <parent  link="motor_link_6" />
  <child  link="parallel_6_knee" />
  <origin  xyz="0 0 0.04"  rpy="0 0 0" />
 </joint>
 <link  name="parallel_6_knee" >
  <inertial >
   <mass  value="0.002" />
   <inertia  iyy="0.001"  izz="0.001"  ixx="0.001"  ixz="0.0"  ixy="0.0"  iyz="0.0" />
  </inertial>
  <visual >
   <origin  xyz="0 0 0"  rpy="0 1.5707963267948966 0" />
   <geometry >
    <cylinder  length="0.015"  radius="0.0025" />
   </geometry>
   <material  name="Red" />
  </visual>
  <collision >
   <origin  xyz="0 0 0"  rpy="0 1.5707963267948966 0" />
   <geometry >
    <cylinder  length="0.015"  radius="0.0025" />
   </geometry>
   <material  name="Red" />
  </collision>
 </link>
 <joint  type="revolute"  name="parallel_6_legjoint1" >
  <axis  xyz="0 1 0" />
  <limit  upper="1.5707963267948966"  velocity="1"  lower="-1.5707963267948966"  effort="100" />
  <parent  link="parallel_6_knee" />
  <child  link="parallel_6_leg1" />
  <origin  xyz="-0.005 0 0"  rpy="0 0 0" />
 </joint>
 <joint  type="revolute"  name="parallel_6_legjoint2" >
  <axis  xyz="0 1 0" />
  <limit  upper="1.5707963267948966"  velocity="1"  lower="-1.5707963267948966"  effort="100" />
  <parent  link="parallel_6_knee" />
  <child  link="parallel_6_leg2" />
  <origin  xyz="0.005 0 0"  rpy="0 0 0" />
 </joint>
 <link  name="parallel_6_leg1" >
  <inertial >
   <mass  value="0.005" />
   <inertia  iyy="0.001"  izz="0.001"  ixx="0.001"  ixz="0.0"  ixy="0.0"  iyz="0.0" />
  </inertial>
  <visual >
   <origin  xyz="0 0 0.025"  rpy="0 0 0" />
   <geometry >
    <box  size="0.003 0.003 0.05" />
   </geometry>
   <material  name="BananaYellow" />
  </visual>
  <collision >
   <origin  xyz="0 0 0.025"  rpy="0 0 0" />
   <geometry >
    <box  size="0.003 0.003 0.05" />
   </geometry>
   <material  name="BananaYellow" />
  </collision>
 </link>
 <link  name="parallel_6_leg2" >
  <inertial >
   <mass  value="0.005" />
   <inertia  iyy="0.001"  izz="0.001"  ixx="0.001"  ixz="0.0"  ixy="0.0"  iyz="0.0" />
  </inertial>
  <visual >
   <origin  xyz="0 0 0.025"  rpy="0 0 0" />
   <geometry >
    <box  size="0.003 0.003 0.05" />
   </geometry>
   <material  name="White" />
  </visual>
  <collision >
   <origin  xyz="0 0 0.025"  rpy="0 0 0" />
   <geometry >
    <box  size="0.003 0.003 0.05" />
   </geometry>
   <material  name="White" />
  </collision>
 </link>
 <joint  type="revolute"  name="parallel_7_kneejoint" >
  <axis  xyz="1 0 0" />
  <limit  upper="3.141592653589793"  velocity="1"  lower="-3.141592653589793"  effort="100" />
  <parent  link="motor_link_7" />
  <child  link="parallel_7_knee" />
  <origin  xyz="0 0 0.04"  rpy="0 0 0" />
 </joint>
 <link  name="parallel_7_knee" >
  <inertial >
   <mass  value="0.002" />
   <inertia  iyy="0.001"  izz="0.001"  ixx="0.001"  ixz="0.0"  ixy="0.0"  iyz="0.0" />
  </inertial>
  <visual >
   <origin  xyz="0 0 0"  rpy="0 1.5707963267948966 0" />
   <geometry >
    <cylinder  length="0.015"  radius="0.0025" />
   </geometry>
   <material  name="Red" />
  </visual>
  <collision >
   <origin  xyz="0 0 0"  rpy="0 1.5707963267948966 0" />
   <geometry >
    <cylinder  length="0.015"  radius="0.0025" />
   </geometry>
   <material  name="Red" />
  </collision>
 </link>
 <joint  type="revolute"  name="parallel_7_legjoint1" >
  <axis  xyz="0 1 0" />
  <limit  upper="1.5707963267948966"  velocity="1"  lower="-1.5707963267948966"  effort="100" />
  <parent  link="parallel_7_knee" />
  <child  link="parallel_7_leg1" />
  <origin  xyz="-0.005 0 0"  rpy="0 0 0" />
 </joint>
 <joint  type="revolute"  name="parallel_7_legjoint2" >
  <axis  xyz="0 1 0" />
  <limit  upper="1.5707963267948966"  velocity="1"  lower="-1.5707963267948966"  effort="100" />
  <parent  link="parallel_7_knee" />
  <child  link="parallel_7_leg2" />
  <origin  xyz="0.005 0 0"  rpy="0 0 0" />
 </joint>
 <link  name="parallel_7_leg1" >
  <inertial >
   <mass  value="0.005" />
   <inertia  iyy="0.001"  izz="0.001"  ixx="0.001"  ixz="0.0"  ixy="0.0"  iyz="0.0" />
  </inertial>
  <visual >
   <origin  xyz="0 0 0.025"  rpy="0 0 0" />
   <geometry >
    <box  size="0.003 0.003 0.05" />
   </geometry>
   <material  name="BananaYellow" />
  </visual>
  <collision >
   <origin  xyz="0 0 0.025"  rpy="0 0 0" />
   <geometry >
    <box  size="0.003 0.003 0.05" />
   </geometry>
   <material  name="BananaYellow" />
  </collision>
 </link>
 <link  name="parallel_7_leg2" >
  <inertial >
   <mass  value="0.005" />
   <inertia  iyy="0.001"  izz="0.001"  ixx="0.001"  ixz="0.0"  ixy="0.0"  iyz="0.0" />
  </inertial>
  <visual >
   <origin  xyz="0 0 0.025"  rpy="0 0 0" />
   <geometry >
    <box  size="0.003 0.003 0.05" />
   </geometry>
   <material  name="White" />
  </visual>
  <collision >
   <origin  xyz="0 0 0.025"  rpy="0 0 0" />
   <geometry >
    <box  size="0.003 0.003 0.05" />
   </geometry>
   <material  name="White" />
  </collision>
 </link>
 <joint  type="revolute"  name="parallel_8_kneejoint" >
  <axis  xyz="1 0 0" />
  <limit  upper="3.141592653589793"  velocity="1"  lower="-3.141592653589793"  effort="100" />
  <parent  link="motor_link_8" />
  <child  link="parallel_8_knee" />
  <origin  xyz="0 0 0.04"  rpy="0 0 0" />
 </joint>
 <link  name="parallel_8_knee" >
  <inertial >
   <mass  value="0.002" />
   <inertia  iyy="0.001"  izz="0.001"  ixx="0.001"  ixz="0.0"  ixy="0.0"  iyz="0.0" />
  </inertial>
  <visual >
   <origin  xyz="0 0 0"  rpy="0 1.5707963267948966 0" />
   <geometry >
    <cylinder  length="0.015"  radius="0.0025" />
   </geometry>
   <material  name="Red" />
  </visual>
  <collision >
   <origin  xyz="0 0 0"  rpy="0 1.5707963267948966 0" />
   <geometry >
    <cylinder  length="0.015"  radius="0.0025" />
   </geometry>
   <material  name="Red" />
  </collision>
 </link>
 <joint  type="revolute"  name="parallel_8_legjoint1" >
  <axis  xyz="0 1 0" />
  <limit  upper="1.5707963267948966"  velocity="1"  lower="-1.5707963267948966"  effort="100" />
  <parent  link="parallel_8_knee" />
  <child  link="parallel_8_leg1" />
  <origin  xyz="-0.005 0 0"  rpy="0 0 0" />
 </joint>
 <joint  type="revolute"  name="parallel_8_legjoint2" >
  <axis  xyz="0 1 0" />
  <limit  upper="1.5707963267948966"  velocity="1"  lower="-1.5707963267948966"  effort="100" />
  <parent  link="parallel_8_knee" />
  <child  link="parallel_8_leg2" />
  <origin  xyz="0.005 0 0"  rpy="0 0 0" />
 </joint>
 <link  name="parallel_8_leg1" >
  <inertial >
   <mass  value="0.005" />
   <inertia  iyy="0.001"  izz="0.001"  ixx="0.001"  ixz="0.0"  ixy="0.0"  iyz="0.0" />
  </inertial>
  <visual >
   <origin  xyz="0 0 0.025"  rpy="0 0 0" />
   <geometry >
    <box  size="0.003 0.003 0.05" />
   </geometry>
   <material  name="BananaYellow" />
  </visual>
  <collision >
   <origin  xyz="0 0 0.025"  rpy="0 0 0" />
   <geometry >
    <box  size="0.003 0.003 0.05" />
   </geometry>
   <material  name="BananaYellow" />
  </collision>
 </link>
 <link  name="parallel_8_leg2" >
  <inertial >
   <mass  value="0.005" />
   <inertia  iyy="0.001"  izz="0.001"  ixx="0.001"  ixz="0.0"  ixy="0.0"  iyz="0.0" />
  </inertial>
  <visual >
   <origin  xyz="0 0 0.025"  rpy="0 0 0" />
   <geometry >
    <box  size="0.003 0.003 0.05" />
   </geometry>
   <material  name="White" />
  </visual>
  <collision >
   <origin  xyz="0 0 0.025"  rpy="0 0 0" />
   <geometry >
    <box  size="0.003 0.003 0.05" />
   </geometry>
   <material  name="White" />
  </collision>
 </link>
 <joint  type="revolute"  name="parallel_9_kneejoint" >
  <axis  xyz="1 0 0" />
  <limit  upper="3.141592653589793"  velocity="1"  lower="-3.141592653589793"  effort="100" />
  <parent  link="motor_link_9" />
  <child  link="parallel_9_knee" />
  <origin  xyz="0 0 0.04"  rpy="0 0 0" />
 </joint>
 <link  name="parallel_9_knee" >
  <inertial >
   <mass  value="0.002" />
   <inertia  iyy="0.001"  izz="0.001"  ixx="0.001"  ixz="0.0"  ixy="0.0"  iyz="0.0" />
  </inertial>
  <visual >
   <origin  xyz="0 0 0"  rpy="0 1.5707963267948966 0" />
   <geometry >
    <cylinder  length="0.015"  radius="0.0025" />
   </geometry>
   <material  name="Red" />
  </visual>
  <collision >
   <origin  xyz="0 0 0"  rpy="0 1.5707963267948966 0" />
   <geometry >
    <cylinder  length="0.015"  radius="0.0025" />
   </geometry>
   <material  name="Red" />
  </collision>
 </link>
 <joint  type="revolute"  name="parallel_9_legjoint1" >
  <axis  xyz="0 1 0" />
  <limit  upper="1.5707963267948966"  velocity="1"  lower="-1.5707963267948966"  effort="100" />
  <parent  link="parallel_9_knee" />
  <child  link="parallel_9_leg1" />
  <origin  xyz="-0.005 0 0"  rpy="0 0 0" />
 </joint>
 <joint  type="revolute"  name="parallel_9_legjoint2" >
  <axis  xyz="0 1 0" />
  <limit  upper="1.5707963267948966"  velocity="1"  lower="-1.5707963267948966"  effort="100" />
  <parent  link="parallel_9_knee" />
  <child  link="parallel_9_leg2" />
  <origin  xyz="0.005 0 0"  rpy="0 0 0" />
 </joint>
 <link  name="parallel_9_leg1" >
  <inertial >
   <mass  value="0.005" />
   <inertia  iyy="0.001"  izz="0.001"  ixx="0.001"  ixz="0.0"  ixy="0.0"  iyz="0.0" />
  </inertial>
  <visual >
   <origin  xyz="0 0 0.025"  rpy="0 0 0" />
   <geometry >
    <box  size="0.003 0.003 0.05" />
   </geometry>
   <material  name="BananaYellow" />
  </visual>
  <collision >
   <origin  xyz="0 0 0.025"  rpy="0 0 0" />
   <geometry >
    <box  size="0.003 0.003 0.05" />
   </geometry>
   <material  name="BananaYellow" />
  </collision>
 </link>
 <link  name="parallel_9_leg2" >
  <inertial >
   <mass  value="0.005" />
   <inertia  iyy="0.001"  izz="0.001"  ixx="0.001"  ixz="0.0"  ixy="0.0"  iyz="0.0" />
  </inertial>
  <visual >
   <origin  xyz="0 0 0.025"  rpy="0 0 0" />
   <geometry >
    <box  size="0.003 0.003 0.05" />
   </geometry>
   <material  name="White" />
  </visual>
  <collision >
   <origin  xyz="0 0 0.025"  rpy="0 0 0" />
   <geometry >
    <box  size="0.003 0.003 0.05" />
   </geometry>
   <material  name="White" />
  </collision>
 </link>
 <joint  type="revolute"  name="parallel_10_kneejoint" >
  <axis  xyz="1 0 0" />
  <limit  upper="3.141592653589793"  velocity="1"  lower="-3.141592653589793"  effort="100" />
  <parent  link="motor_link_10" />
  <child  link="parallel_10_knee" />
  <origin  xyz="0 0 0.04"  rpy="0 0 0" />
 </joint>
 <link  name="parallel_10_knee" >
  <inertial >
   <mass  value="0.002" />
   <inertia  iyy="0.001"  izz="0.001"  ixx="0.001"  ixz="0.0"  ixy="0.0"  iyz="0.0" />
  </inertial>
  <visual >
   <origin  xyz="0 0 0"  rpy="0 1.5707963267948966 0" />
   <geometry >
    <cylinder  length="0.015"  radius="0.0025" />
   </geometry>
   <material  name="Red" />
  </visual>
  <collision >
   <origin  xyz="0 0 0"  rpy="0 1.5707963267948966 0" />
   <geometry >
    <cylinder  length="0.015"  radius="0.0025" />
   </geometry>
   <material  name="Red" />
  </collision>
 </link>
 <joint  type="revolute"  name="parallel_10_legjoint1" >
  <axis  xyz="0 1 0" />
  <limit  upper="1.5707963267948966"  velocity="1"  lower="-1.5707963267948966"  effort="100" />
  <parent  link="parallel_10_knee" />
  <child  link="parallel_10_leg1" />
  <origin  xyz="-0.005 0 0"  rpy="0 0 0" />
 </joint>
 <joint  type="revolute"  name="parallel_10_legjoint2" >
  <axis  xyz="0 1 0" />
  <limit  upper="1.5707963267948966"  velocity="1"  lower="-1.5707963267948966"  effort="100" />
  <parent  link="parallel_10_knee" />
  <child  link="parallel_10_leg2" />
  <origin  xyz="0.005 0 0"  rpy="0 0 0" />
 </joint>
 <link  name="parallel_10_leg1" >
  <inertial >
   <mass  value="0.005" />
   <inertia  iyy="0.001"  izz="0.001"  ixx="0.001"  ixz="0.0"  ixy="0.0"  iyz="0.0" />
  </inertial>
  <visual >
   <origin  xyz="0 0 0.025"  rpy="0 0 0" />
   <geometry >
    <box  size="0.003 0.003 0.05" />
   </geometry>
   <material  name="BananaYellow" />
  </visual>
  <collision >
   <origin  xyz="0 0 0.025"  rpy="0 0 0" />
   <geometry >
    <box  size="0.003 0.003 0.05" />
   </geometry>
   <material  name="BananaYellow" />
  </collision>
 </link>
 <link  name="parallel_10_leg2" >
  <inertial >
   <mass  value="0.005" />
   <inertia  iyy="0.001"  izz="0.001"  ixx="0.001"  ixz="0.0"  ixy="0.0"  iyz="0.0" />
  </inertial>
  <visual >
   <origin  xyz="0 0 0.025"  rpy="0 0 0" />
   <geometry >
    <box  size="0.003 0.003 0.05" />
   </geometry>
   <material  name="White" />
  </visual>
  <collision >
   <origin  xyz="0 0 0.025"  rpy="0 0 0" />
   <geometry >
    <box  size="0.003 0.003 0.05" />
   </geometry>
   <material  name="White" />
  </collision>
 </link>
 <joint  type="revolute"  name="parallel_11_kneejoint" >
  <axis  xyz="1 0 0" />
  <limit  upper="3.141592653589793"  velocity="1"  lower="-3.141592653589793"  effort="100" />
  <parent  link="motor_link_11" />
  <child  link="parallel_11_knee" />
  <origin  xyz="0 0 0.04"  rpy="0 0 0" />
 </joint>
 <link  name="parallel_11_knee" >
  <inertial >
   <mass  value="0.002" />
   <inertia  iyy="0.001"  izz="0.001"  ixx="0.001"  ixz="0.0"  ixy="0.0"  iyz="0.0" />
  </inertial>
  <visual >
   <origin  xyz="0 0 0"  rpy="0 1.5707963267948966 0" />
   <geometry >
    <cylinder  length="0.015"  radius="0.0025" />
   </geometry>
   <material  name="Red" />
  </visual>
  <collision >
   <origin  xyz="0 0 0"  rpy="0 1.5707963267948966 0" />
   <geometry >
    <cylinder  length="0.015"  radius="0.0025" />
   </geometry>
   <material  name="Red" />
  </collision>
 </link>
 <joint  type="revolute"  name="parallel_11_legjoint1" >
  <axis  xyz="0 1 0" />
  <limit  upper="1.5707963267948966"  velocity="1"  lower="-1.5707963267948966"  effort="100" />
  <parent  link="parallel_11_knee" />
  <child  link="parallel_11_leg1" />
  <origin  xyz="-0.005 0 0"  rpy="0 0 0" />
 </joint>
 <joint  type="revolute"  name="parallel_11_legjoint2" >
  <axis  xyz="0 1 0" />
  <limit  upper="1.5707963267948966"  velocity="1"  lower="-1.5707963267948966"  effort="100" />
  <parent  link="parallel_11_knee" />
  <child  link="parallel_11_leg2" />
  <origin  xyz="0.005 0 0"  rpy="0 0 0" />
 </joint>
 <link  name="parallel_11_leg1" >
  <inertial >
   <mass  value="0.005" />
   <inertia  iyy="0.001"  izz="0.001"  ixx="0.001"  ixz="0.0"  ixy="0.0"  iyz="0.0" />
  </inertial>
  <visual >
   <origin  xyz="0 0 0.025"  rpy="0 0 0" />
   <geometry >
    <box  size="0.003 0.003 0.05" />
   </geometry>
   <material  name="BananaYellow" />
  </visual>
  <collision >
   <origin  xyz="0 0 0.025"  rpy="0 0 0" />
   <geometry >
    <box  size="0.003 0.003 0.05" />
   </geometry>
   <material  name="BananaYellow" />
  </collision>
 </link>
 <link  name="parallel_11_leg2" >
  <inertial >
   <mass  value="0.005" />
   <inertia  iyy="0.001"  izz="0.001"  ixx="0.001"  ixz="0.0"  ixy="0.0"  iyz="0.0" />
  </inertial>
  <visual >
   <origin  xyz="0 0 0.025"  rpy="0 0 0" />
   <geometry >
    <box  size="0.003 0.003 0.05" />
   </geometry>
   <material  name="White" />
  </visual>
  <collision >
   <origin  xyz="0 0 0.025"  rpy="0 0 0" />
   <geometry >
    <box  size="0.003 0.003 0.05" />
   </geometry>
   <material  name="White" />
  </collision>
 </link>
</robot>
